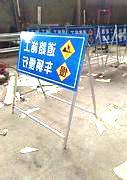sign: (17, 35, 79, 91)
